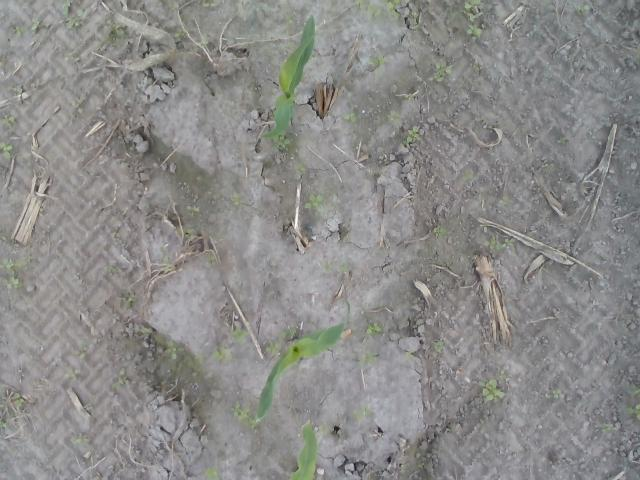Maize: (256, 290, 352, 426), (262, 13, 317, 144), (288, 423, 320, 480)
Weeds: (478, 368, 512, 402), (479, 234, 513, 258), (230, 401, 258, 429), (354, 0, 402, 16), (0, 252, 31, 272), (103, 22, 129, 43), (264, 132, 288, 152), (110, 366, 128, 391), (72, 338, 88, 362), (463, 0, 480, 22), (158, 246, 172, 272), (4, 272, 24, 290), (433, 62, 451, 82), (402, 126, 422, 144), (351, 404, 369, 422), (120, 289, 136, 309), (623, 403, 640, 421), (232, 326, 248, 344), (72, 432, 90, 448), (265, 340, 281, 357), (464, 23, 481, 39), (71, 95, 85, 114), (366, 322, 384, 336), (304, 194, 322, 208), (214, 348, 232, 362), (0, 142, 14, 160), (204, 466, 222, 480), (164, 342, 178, 360), (360, 351, 376, 366), (0, 113, 15, 129), (320, 258, 334, 274), (342, 111, 358, 125), (432, 224, 448, 238), (627, 382, 640, 399), (174, 28, 185, 48), (410, 11, 420, 32), (386, 110, 401, 124), (279, 326, 298, 337), (64, 369, 80, 382), (30, 16, 42, 33), (239, 0, 250, 18), (161, 0, 179, 11), (432, 339, 446, 353), (64, 50, 80, 62), (184, 206, 200, 218), (66, 15, 80, 28), (598, 423, 614, 434), (181, 227, 193, 241), (498, 194, 512, 206), (368, 55, 384, 65), (14, 394, 26, 407), (576, 4, 590, 15), (248, 78, 257, 95), (255, 4, 272, 13), (202, 0, 220, 8), (30, 79, 46, 88), (318, 422, 330, 434), (448, 8, 462, 18), (103, 264, 118, 273), (230, 194, 241, 206), (462, 169, 474, 180), (404, 350, 416, 360), (294, 163, 306, 173), (110, 229, 122, 239), (63, 0, 70, 17), (15, 24, 28, 33), (12, 88, 26, 96), (338, 262, 349, 272), (141, 326, 150, 338), (76, 8, 88, 16), (286, 38, 294, 50), (286, 14, 294, 26), (552, 387, 560, 399), (207, 255, 216, 265), (0, 232, 8, 242), (0, 418, 8, 428), (558, 136, 568, 144), (544, 162, 554, 170), (471, 64, 480, 72), (403, 94, 413, 101), (0, 56, 7, 64), (37, 208, 43, 216), (399, 464, 405, 472)
